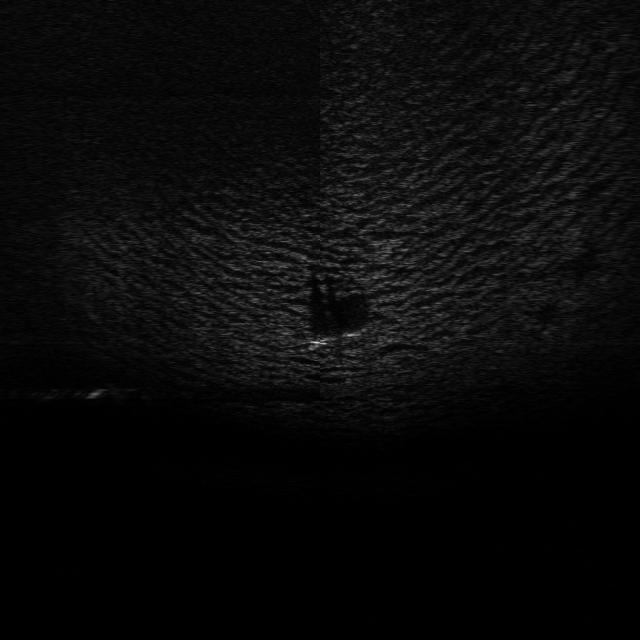plane: (306, 322, 380, 352)
